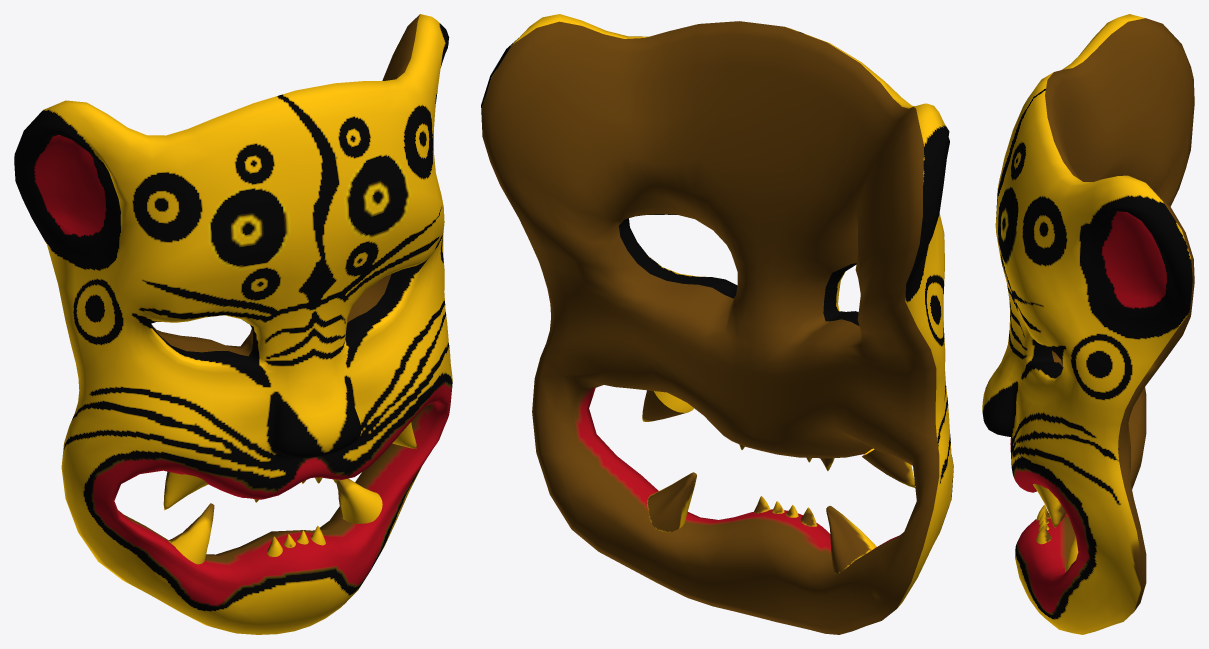
The model's file is Mascara_Pasado.glb.
3 renders of one model, left to right at view 1: azimuth 30°, elevation 25°; view 2: azimuth 150°, elevation 25°; view 3: azimuth 270°, elevation 25°, orthographic. The views are drawn at different scales.
Parts seen in each view (by area): view 1: Mascara_Pasado; view 2: Mascara_Pasado; view 3: Mascara_Pasado.
Part boxes in pixels (x1,y1,x2,y2): Mascara_Pasado: [14, 14, 452, 634]; Mascara_Pasado: [481, 14, 953, 634]; Mascara_Pasado: [982, 14, 1194, 634].
Bounding box in the file's own units: 0.166 × 0.2059 × 0.0762.
Materials: 1 (1 with a texture image).
